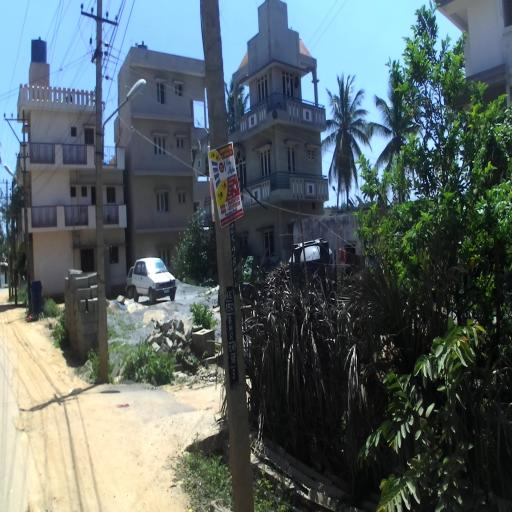street_light_0: (92, 77, 146, 162), (3, 164, 27, 209)
